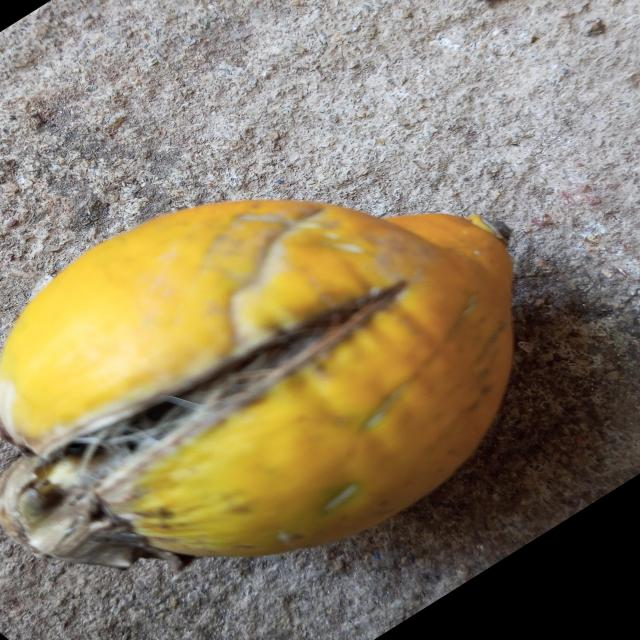damaged: (0, 198, 515, 571)
